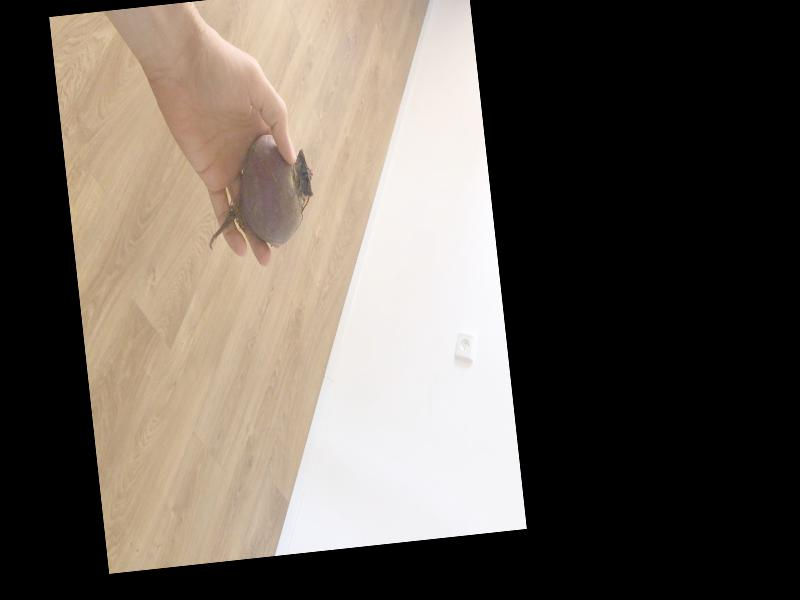Beet: (198, 130, 317, 255)
